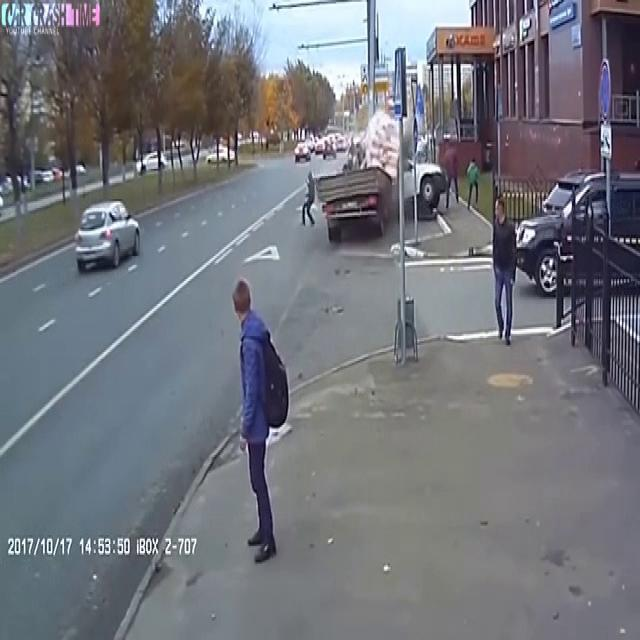accident: (304, 87, 441, 236)
